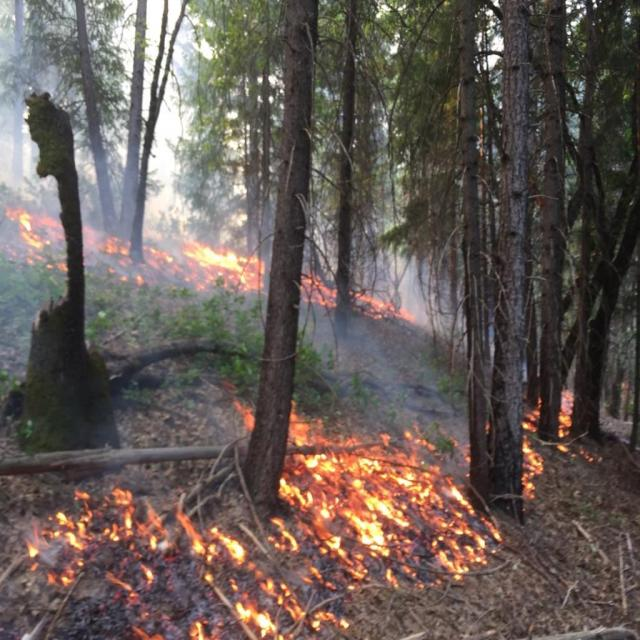Fire: (162, 453, 502, 632), (40, 490, 221, 601), (144, 229, 266, 297), (301, 261, 401, 318), (0, 207, 64, 274), (294, 418, 379, 465), (524, 407, 546, 501), (556, 389, 576, 445)
